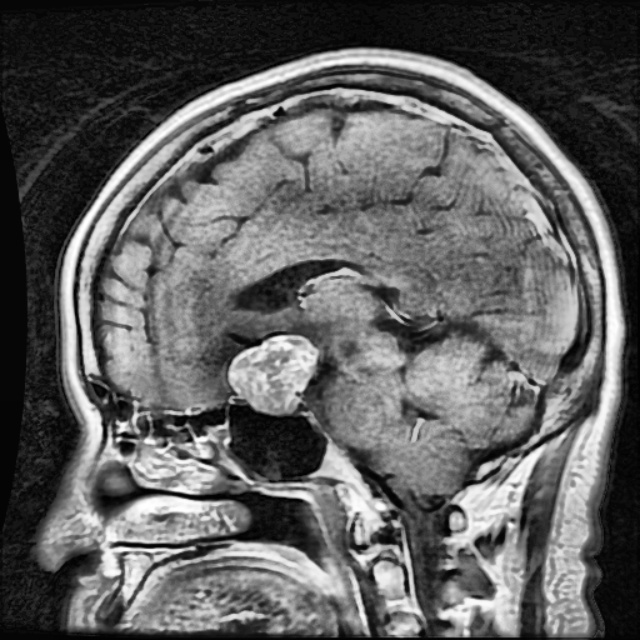Pituitary: (229, 333, 319, 412)
